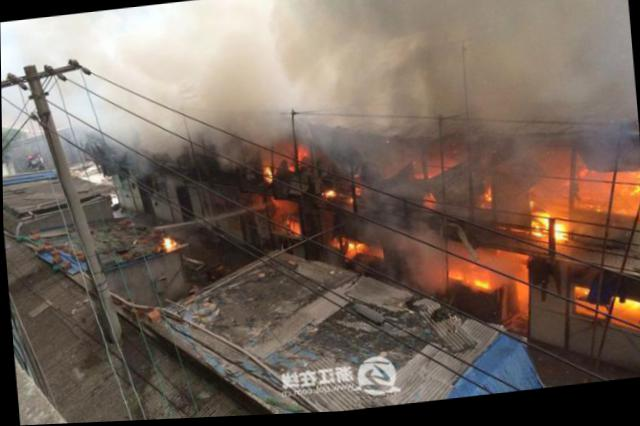fire: (612, 187, 639, 223), (531, 215, 553, 239), (612, 302, 639, 318), (449, 271, 472, 286), (554, 226, 569, 246), (471, 278, 491, 293), (264, 167, 275, 185), (347, 243, 364, 254), (164, 236, 176, 251), (290, 223, 301, 238), (325, 191, 336, 201)
